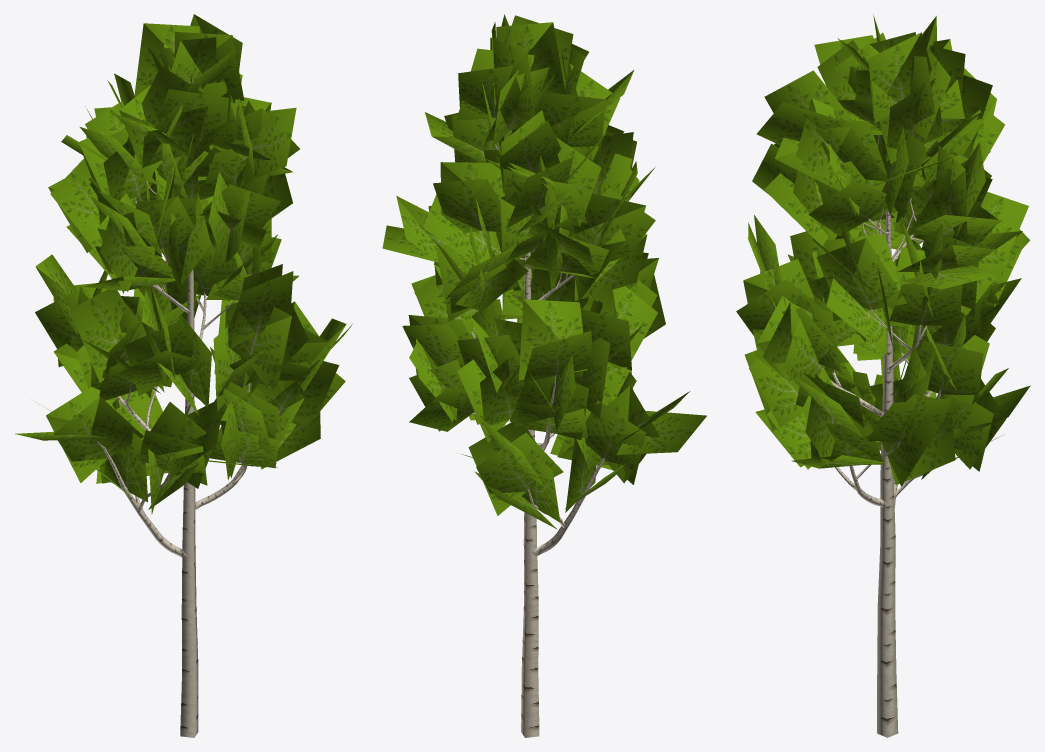
File: Brich_02.glb
The picture shows the model from 3 angles, left to right: view 1: azimuth 30°, elevation 25°; view 2: azimuth 150°, elevation 25°; view 3: azimuth 270°, elevation 25°; orthographic projection.
Visible parts, largest first — view 1: Birch_02; view 2: Birch_02; view 3: Birch_02.
Boxes of the visible parts, box(x1,y1,x2,y2) form: Birch_02: box(15, 14, 352, 737); Birch_02: box(382, 14, 706, 737); Birch_02: box(736, 14, 1030, 737).
Size of the model in its own units: 4.97 by 11.06 by 4.15.
1 material, 1 textured.
